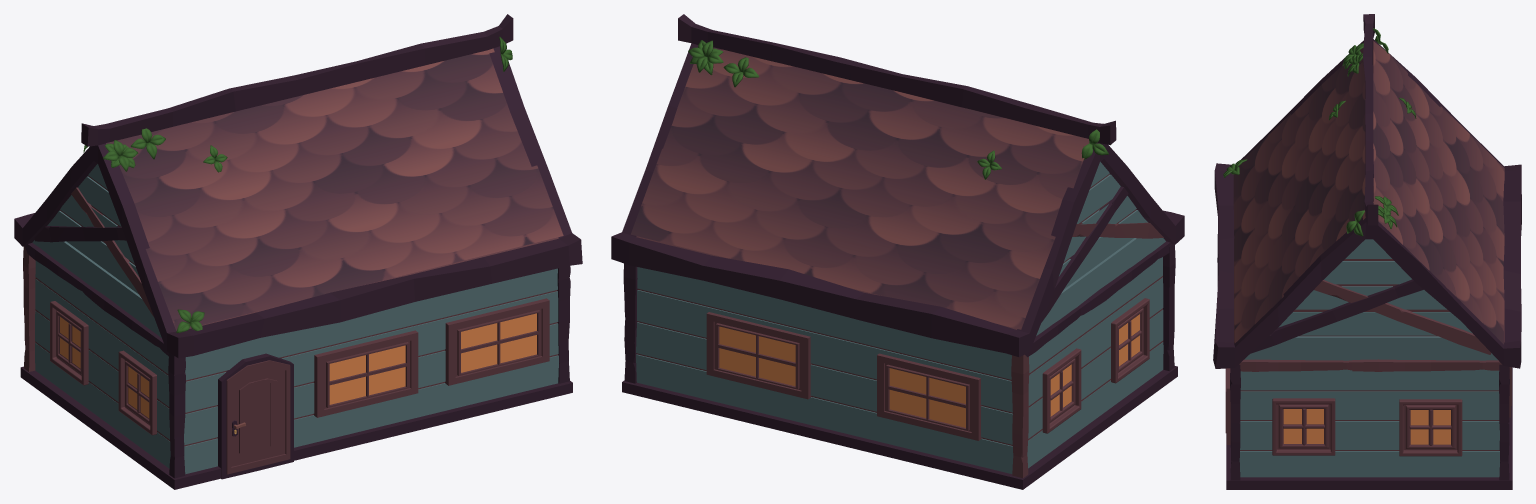
The model's file is casa-madeira8.fbx.
3 views of the same model, side by side, from view 1: azimuth 30°, elevation 25°; view 2: azimuth 150°, elevation 25°; view 3: azimuth 270°, elevation 25° (orthographic). The views are drawn at different scales.
Parts seen in each view (by area): view 1: CasaMadeira8_LOD0, PortaCasaMadeira8; view 2: CasaMadeira8_LOD0; view 3: CasaMadeira8_LOD0.
Boxes of the visible parts, <box> form: CasaMadeira8_LOD0: <box>14,14,582,489</box>; PortaCasaMadeira8: <box>226,360,290,474</box>; CasaMadeira8_LOD0: <box>611,14,1184,489</box>; CasaMadeira8_LOD0: <box>1213,14,1521,489</box>.
Size of what is drawn, in the model's own units: 5.81 by 4.09 by 3.9.
